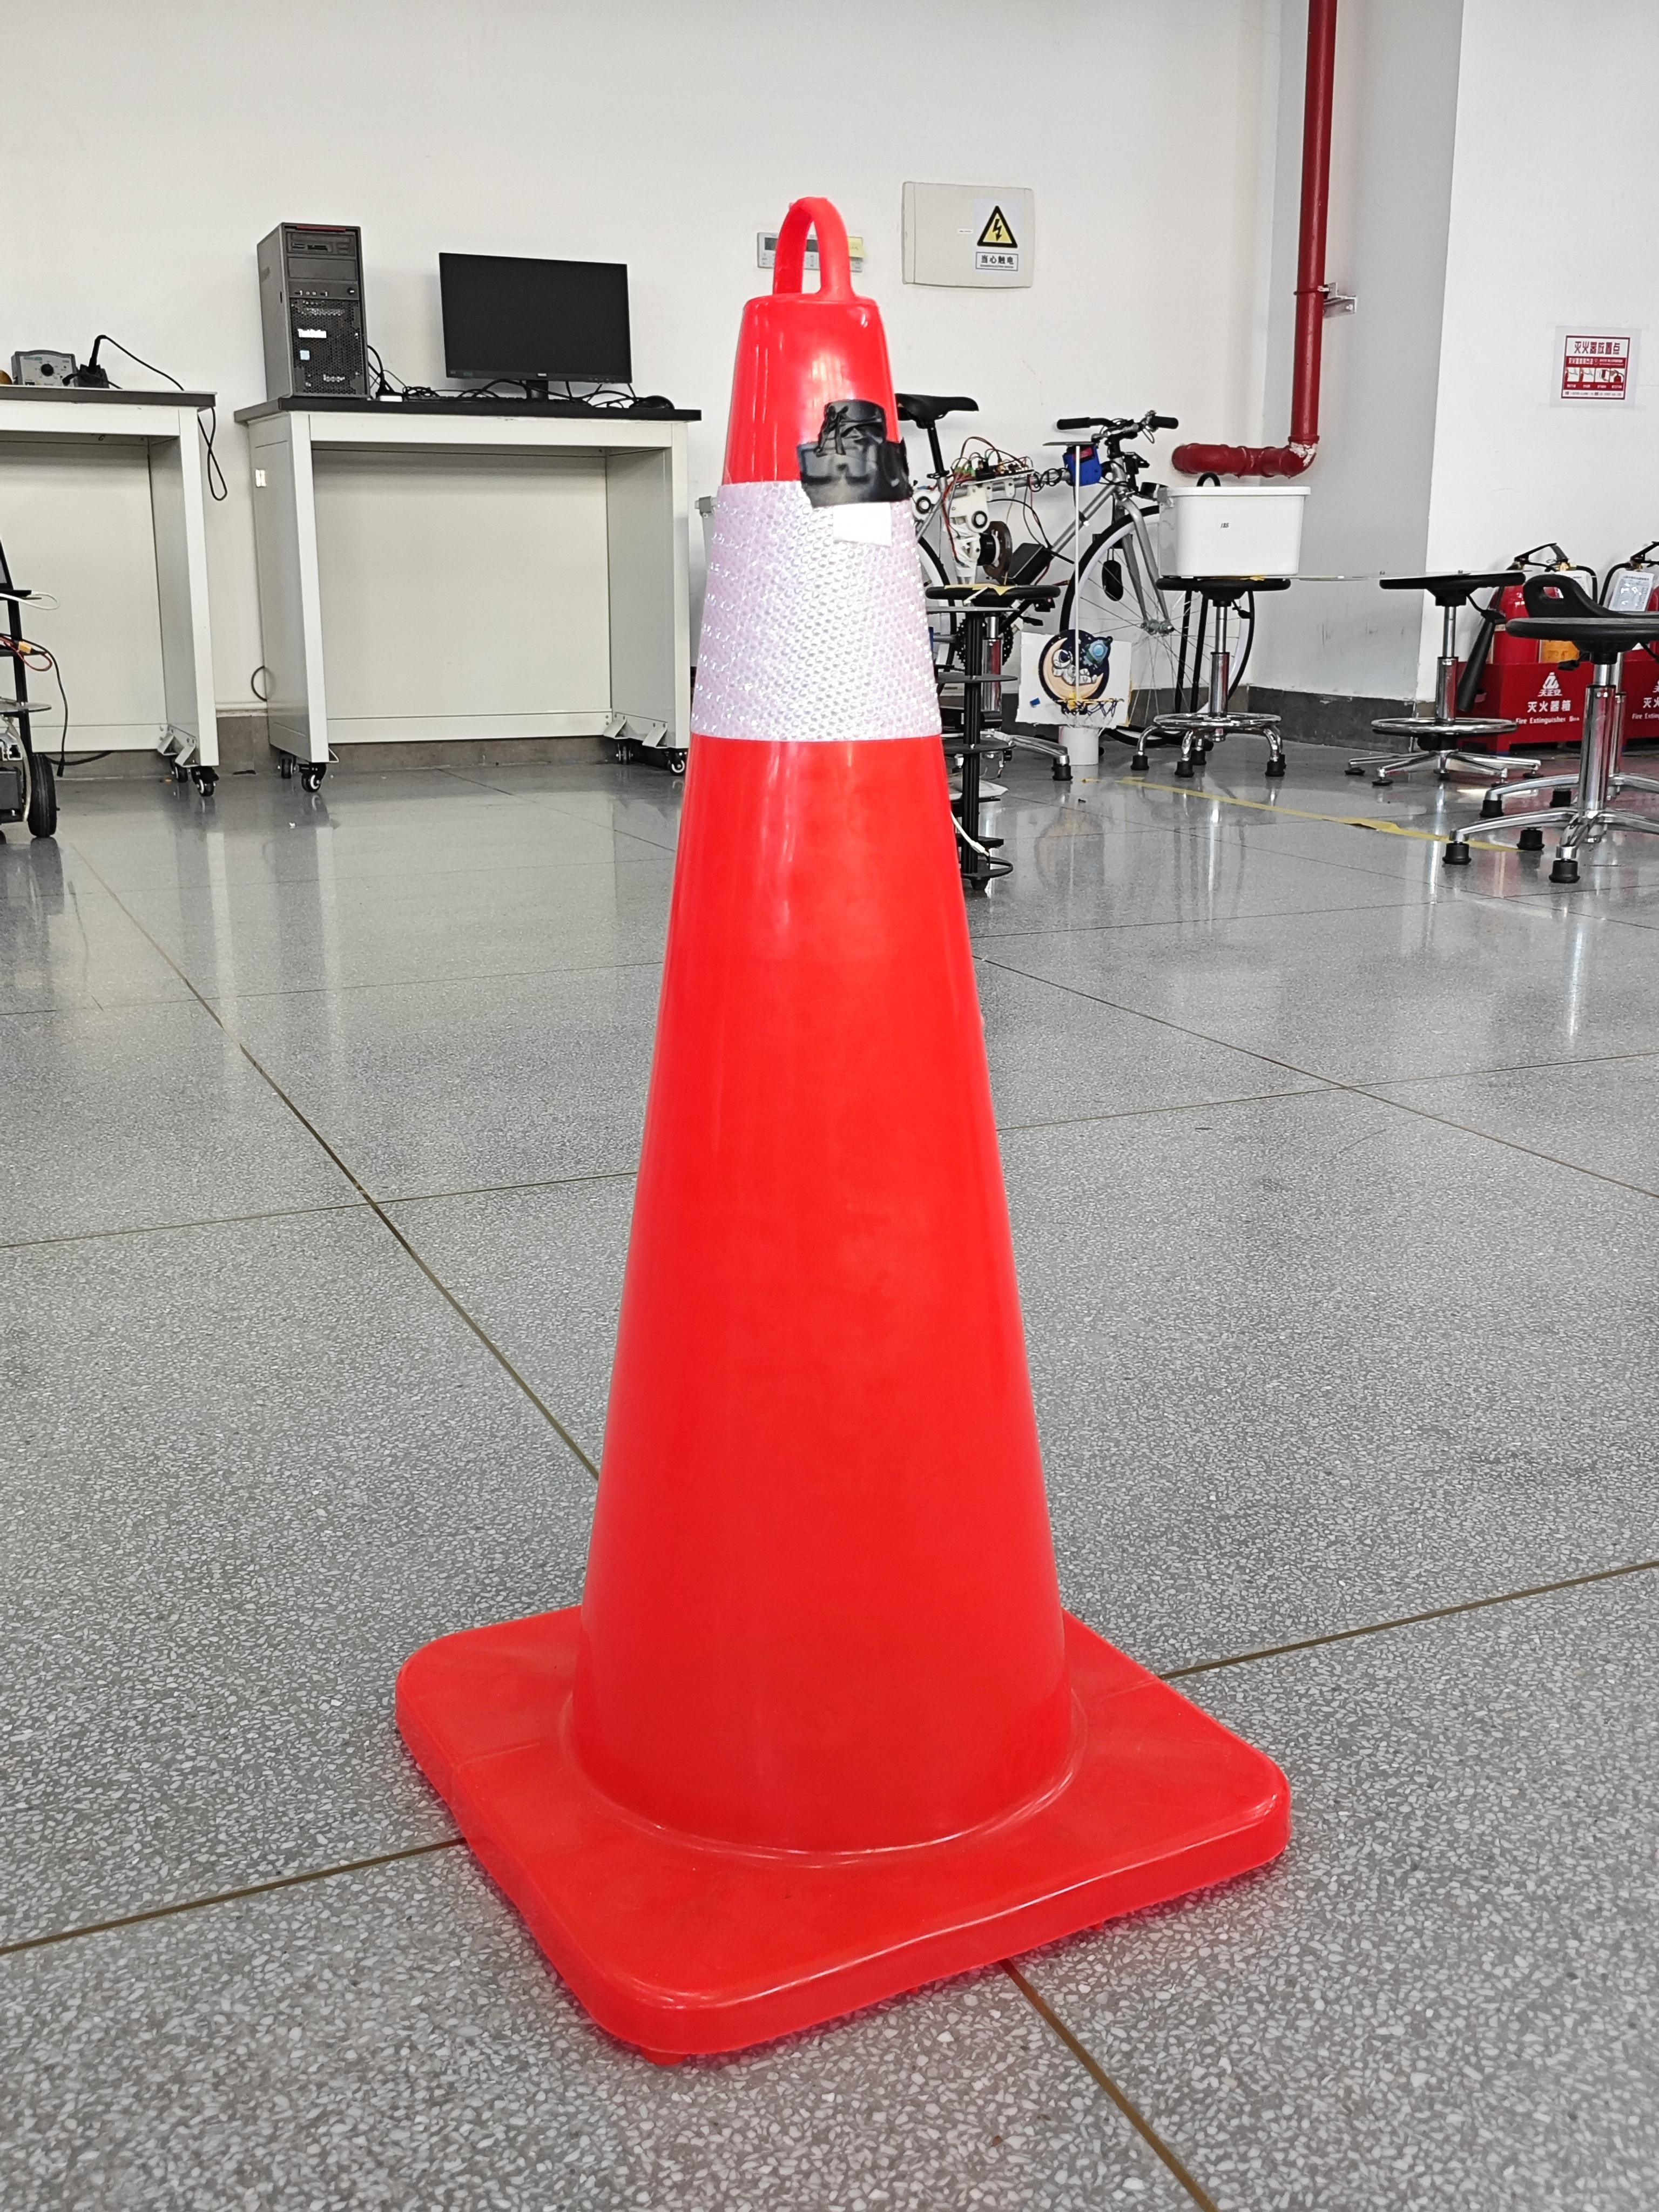cone: (399, 200, 1288, 2057)
